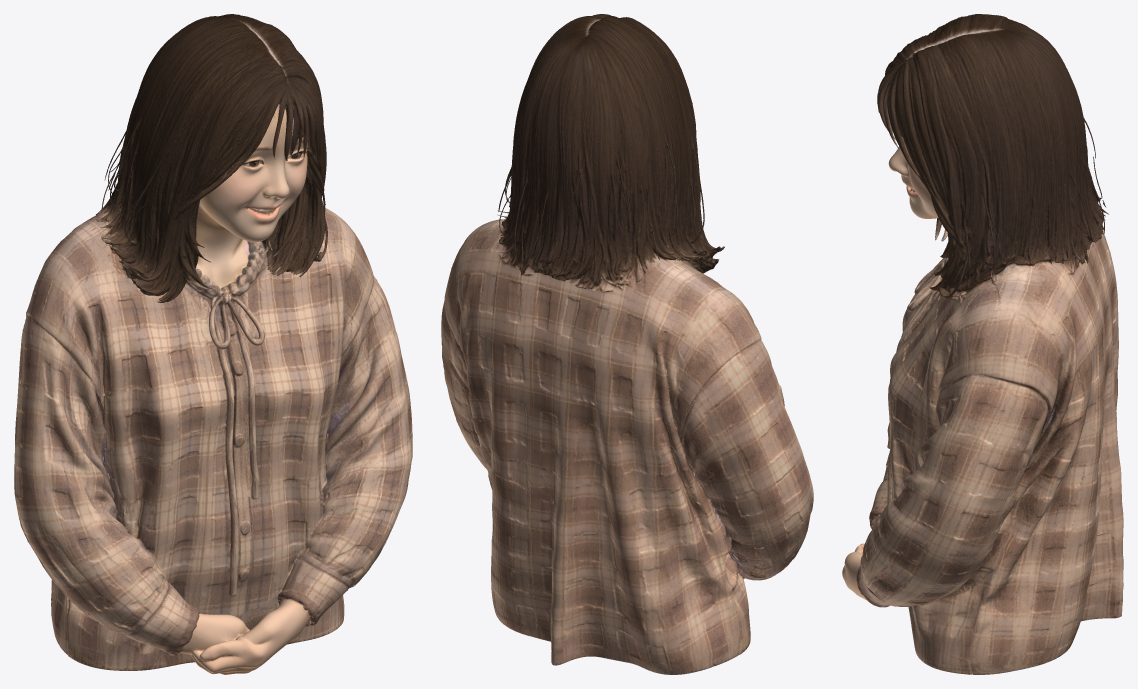
The picture shows the model from 3 angles, left to right: view 1: azimuth 30°, elevation 25°; view 2: azimuth 150°, elevation 25°; view 3: azimuth 270°, elevation 25°; orthographic projection. The views are drawn at different scales.
Size of the model in its own units: 1.22 by 1.9 by 0.8001.
Materials: 1 (1 with a texture image).
